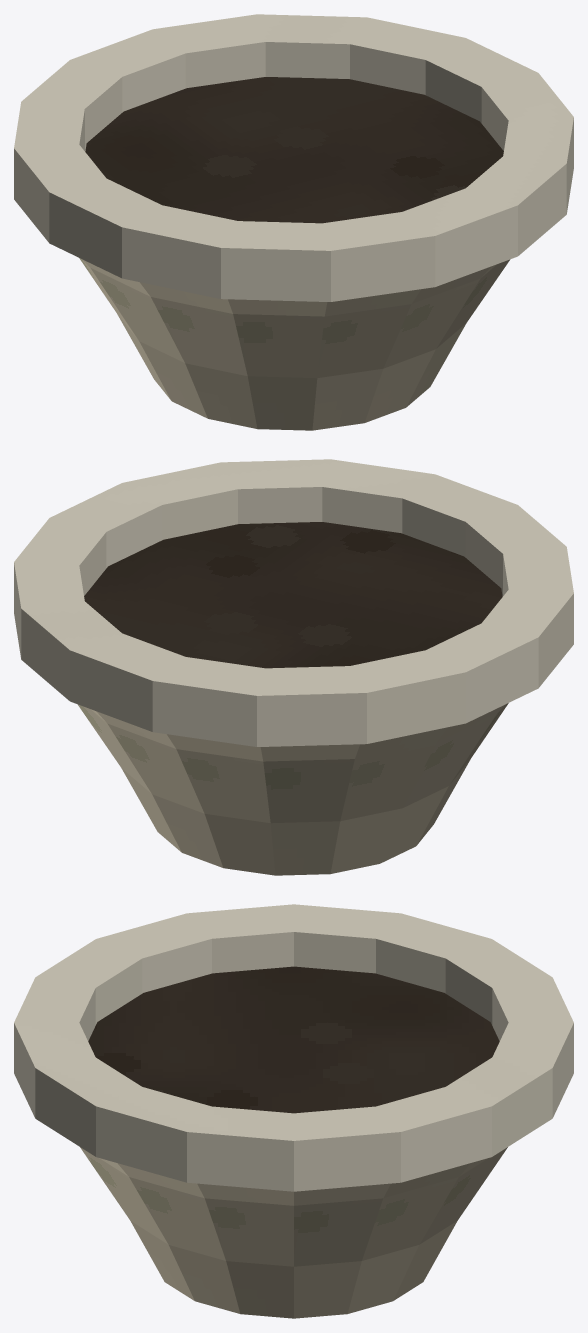
Rendered from AST-BOT-012_low.glb.
3 renders of one model, top to bottom at view 1: azimuth 30°, elevation 25°; view 2: azimuth 150°, elevation 25°; view 3: azimuth 270°, elevation 25°, orthographic.
Visible parts, largest first — view 1: POT_RolledLip, POT_ContainedSoil, POT_TaperedCeramicBody; view 2: POT_RolledLip, POT_ContainedSoil, POT_TaperedCeramicBody; view 3: POT_RolledLip, POT_ContainedSoil, POT_TaperedCeramicBody.
Part boxes in pixels (x1=…): POT_RolledLip: x1=14, y1=14, x2=573, y2=301; POT_ContainedSoil: x1=85, y1=77, x2=503, y2=223; POT_TaperedCeramicBody: x1=79, y1=151, x2=510, y2=430; POT_RolledLip: x1=14, y1=459, x2=573, y2=746; POT_ContainedSoil: x1=84, y1=522, x2=502, y2=668; POT_TaperedCeramicBody: x1=77, y1=596, x2=508, y2=875; POT_RolledLip: x1=14, y1=904, x2=573, y2=1191; POT_ContainedSoil: x1=88, y1=966, x2=499, y2=1113; POT_TaperedCeramicBody: x1=80, y1=1147, x2=507, y2=1318.
Bounding box in the file's own units: 0.3 × 0.14 × 0.3.
Materials: 3 (3 with a texture image).
